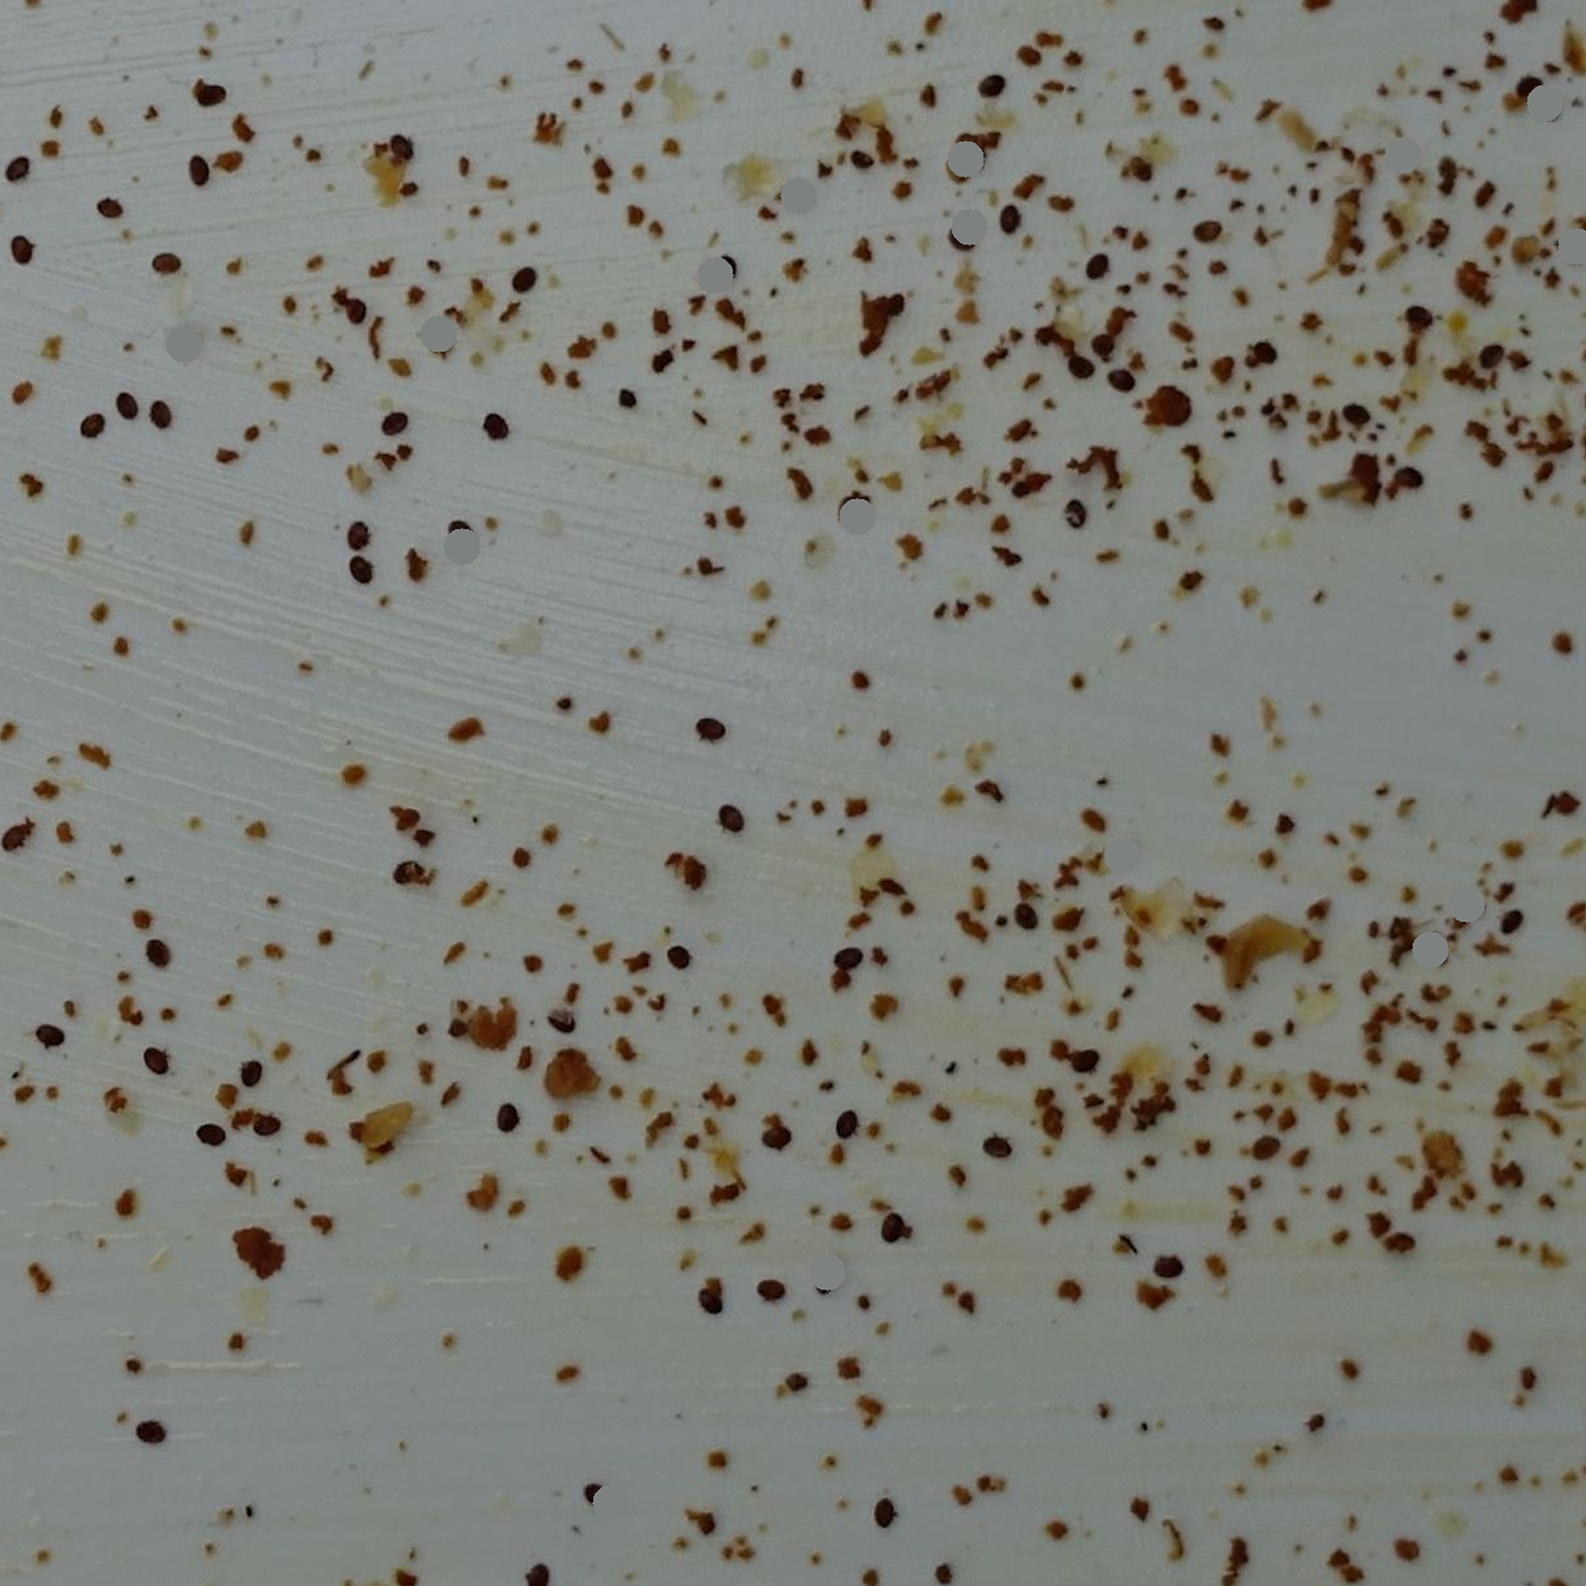Varroa: (1118, 148, 1162, 192), (1059, 347, 1102, 391), (1508, 64, 1550, 107), (347, 296, 375, 324), (9, 152, 38, 179), (1497, 909, 1526, 935), (832, 945, 858, 973), (1065, 505, 1092, 532), (157, 392, 183, 420), (1081, 250, 1107, 276), (349, 521, 375, 548), (121, 391, 142, 421), (719, 805, 745, 829), (492, 1105, 517, 1131), (391, 855, 415, 882), (102, 189, 125, 216), (1349, 399, 1372, 427), (9, 234, 33, 259), (1070, 1046, 1095, 1070), (879, 1219, 905, 1242), (550, 1006, 574, 1031), (874, 1496, 898, 1521), (388, 132, 412, 155), (349, 553, 373, 577), (1399, 463, 1420, 489), (762, 1275, 784, 1301), (511, 269, 534, 292), (139, 1415, 163, 1438), (585, 1479, 610, 1500), (1197, 218, 1219, 243), (701, 1282, 722, 1309), (1481, 343, 1505, 365), (1250, 343, 1272, 366), (701, 716, 722, 741), (670, 945, 691, 967), (41, 1020, 62, 1041), (200, 80, 222, 102), (150, 943, 171, 964), (487, 412, 507, 436), (240, 1059, 260, 1082), (1252, 1134, 1272, 1158), (1160, 1255, 1179, 1280), (155, 253, 177, 273), (989, 1137, 1009, 1158), (1018, 903, 1038, 924), (980, 76, 999, 96), (145, 1046, 166, 1065), (1115, 369, 1134, 389), (81, 412, 100, 431), (200, 1123, 219, 1142), (385, 412, 402, 431), (838, 503, 853, 517), (838, 1114, 851, 1128), (998, 213, 1012, 227), (192, 161, 203, 174), (1415, 309, 1426, 322), (774, 1130, 786, 1142), (964, 235, 975, 248), (259, 1117, 267, 1131), (1012, 221, 1022, 232), (951, 238, 961, 248), (463, 529, 472, 537)
